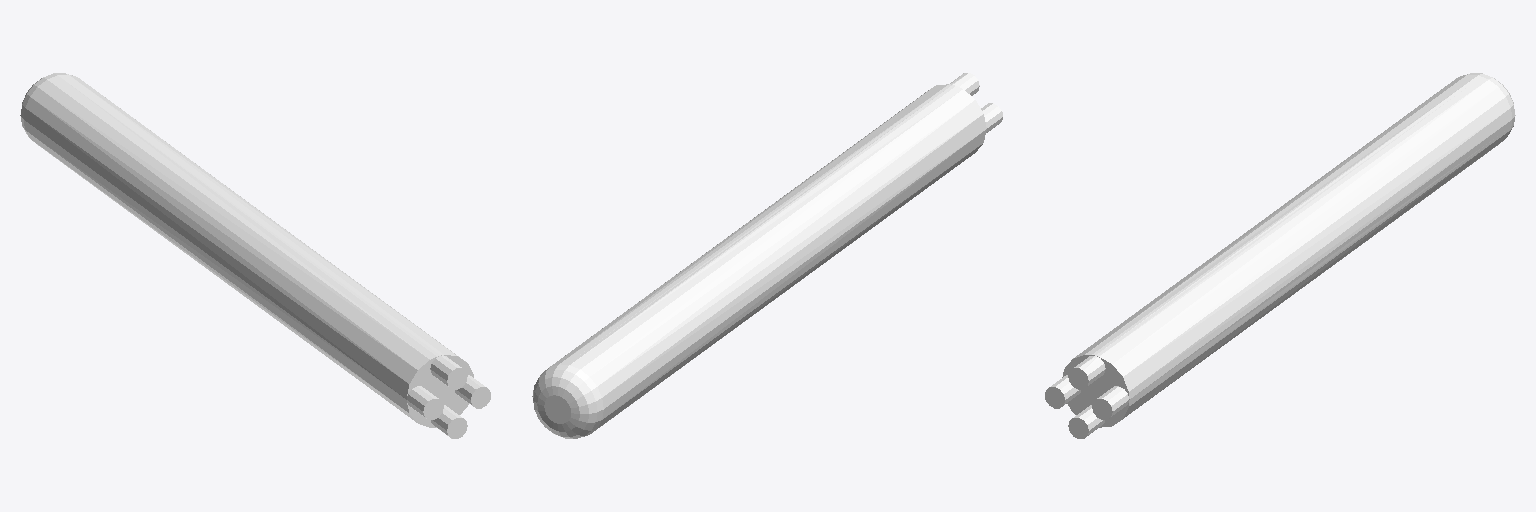
robot.urdf — xi _shou_jie_xi:
<robot
  name="xi _shou_jie_xi">
  <link
    name="xi _shou_jie_xi">
    <inertial>
      <origin
        xyz="4.1904E-07 -8.4378 3.29310000516649E-07"
        rpy="0 0 0" />
      <mass
        value="35590" />
      <inertia
        ixx="830005.974136943"
        ixy="-0.125458304828128"
        ixz="-4.9112452652598E-09"
        iyy="12075.170218164"
        iyz="0.0985923769086456"
        izz="830006.273055743" />
    </inertial>
    <visual>
      <origin
        xyz="0 0 0"
        rpy="1.5707963267949 0 0" />
      <geometry>
        <mesh
          filename="package://xi _shou_jie_xi/meshes/xi _shou_jie_xi.STL" />
      </geometry>
      <material
        name="">
        <color
          rgba="1 1 1 1" />
      </material>
    </visual>
    <collision>
      <origin
        xyz="0 0 0"
        rpy="1.5707963267949 0 0" />
      <geometry>
        <mesh
          filename="package://xi _shou_jie_xi/meshes/xi _shou_jie_xi.STL" />
      </geometry>
    </collision>
  </link>
</robot>

--- Facts derived from the render (not from the file) ---
The picture shows the robot from 3 angles, left to right: view 1: azimuth 30°, elevation 25°; view 2: azimuth 150°, elevation 25°; view 3: azimuth 330°, elevation 25°; orthographic projection.
Model xi _shou_jie_xi with 1 links and 0 joints (none), rooted at xi _shou_jie_xi, posed all joints at 0.
Visible links, largest first — view 1: xi _shou_jie_xi; view 2: xi _shou_jie_xi; view 3: xi _shou_jie_xi.
Link boxes in pixels (<box>): xi _shou_jie_xi: <box>20,73,490,438</box>; xi _shou_jie_xi: <box>532,73,1002,438</box>; xi _shou_jie_xi: <box>1045,73,1515,438</box>.
Bounding box of the posed robot: 1.65 × 17.2 × 1.65 m (x, y, z).
Meshes: 1 distinct files referenced, 1 mesh visuals loaded (1 binary STL).
